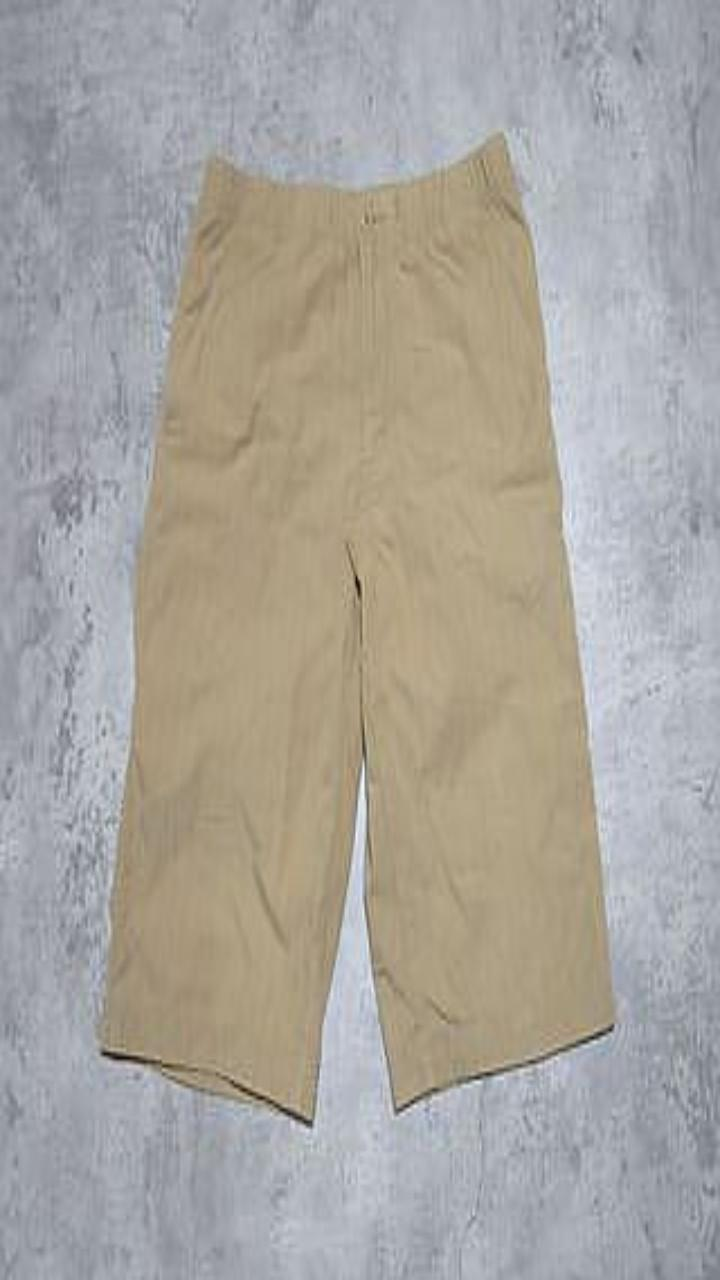Shorts: (99, 132, 614, 1123)
